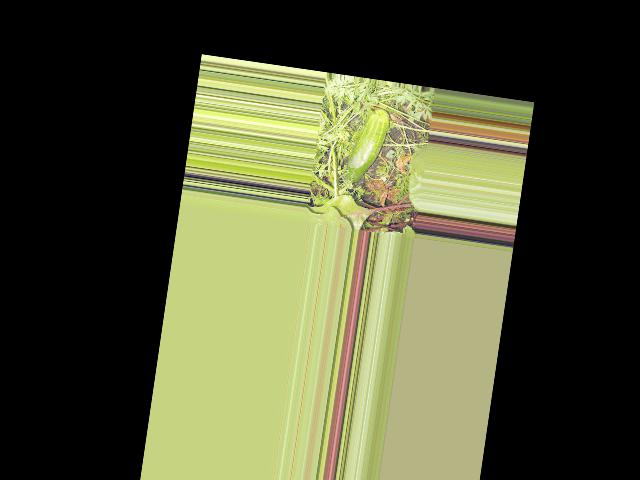cucumber: (342, 106, 390, 187)
